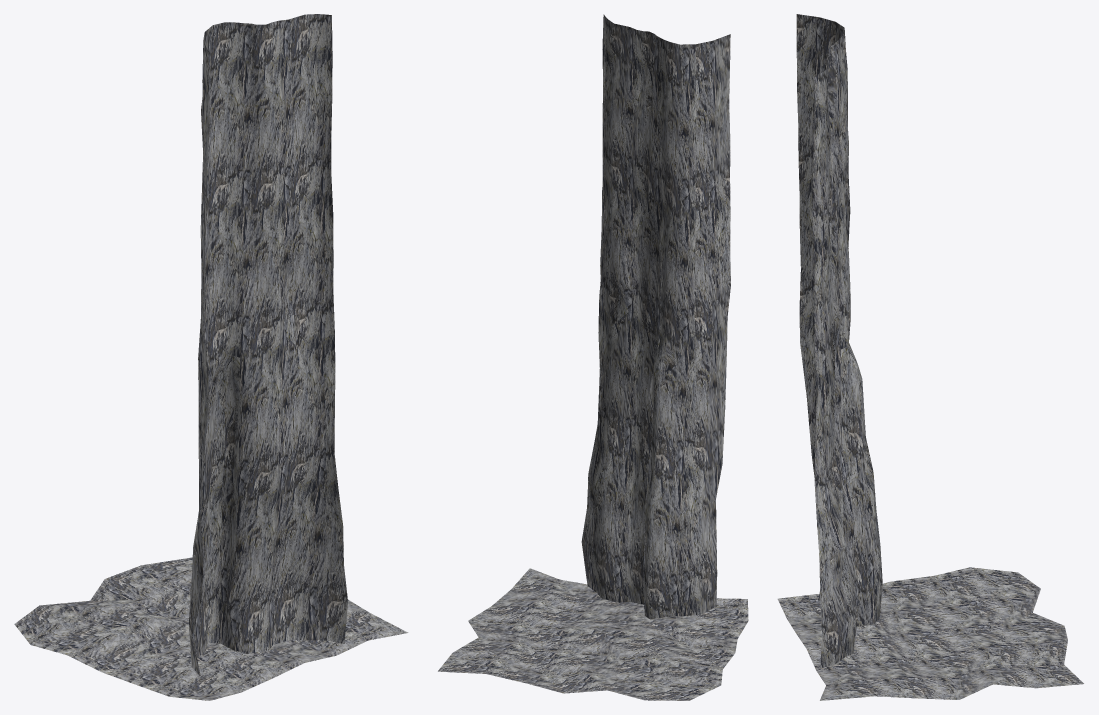
The model's file is environment.fbx.
3 views of the same model, side by side, from view 1: azimuth 30°, elevation 25°; view 2: azimuth 150°, elevation 25°; view 3: azimuth 270°, elevation 25° (orthographic). The views are drawn at different scales.
Parts seen in each view (by area): view 1: Cylinder_1, Plane_1; view 2: Cylinder_1, Plane_1; view 3: Cylinder_1, Plane_1.
Part boxes in pixels (x1=…): Cylinder_1: x1=188, y1=14, x2=347, y2=676; Plane_1: x1=14, y1=557, x2=408, y2=700; Cylinder_1: x1=581, y1=14, x2=730, y2=619; Plane_1: x1=438, y1=568, x2=748, y2=700; Cylinder_1: x1=796, y1=14, x2=882, y2=668; Plane_1: x1=777, y1=567, x2=1083, y2=700.
Bounding box in the file's own units: 2595 × 5413 × 2527.
Materials: 2 (2 with a texture image).
